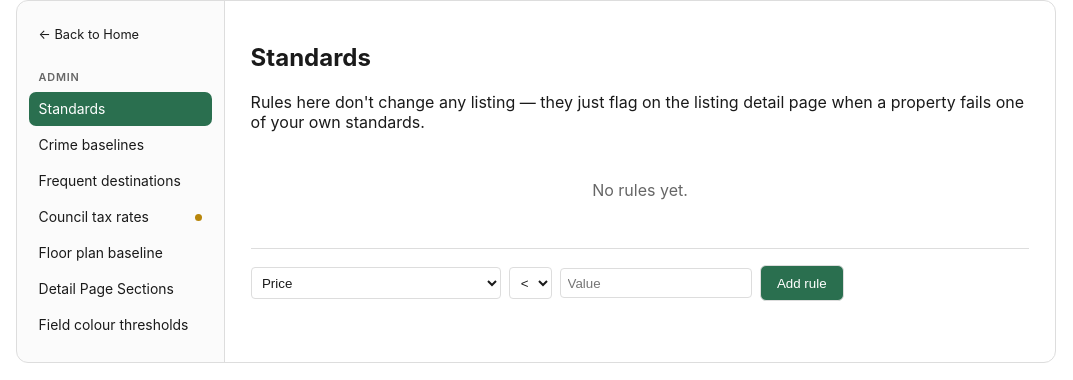
Test: AdminPage council tax rates › shows a needs-rates chip and nav dot for a council with any unset band
Click the button "Council tax rates".
click(120, 217)  # box [29,200,212,234]
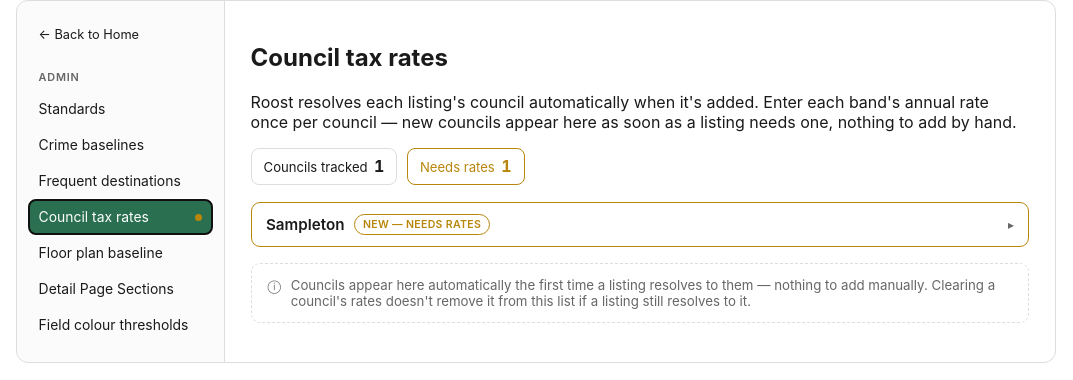
Now the text "Sampleton" is shown, box [266,215,344,234]
Now the text "New — needs rates" is shown, box [354,214,490,235]
Now the text "Needs rates" is shown, box [420,159,495,175]
